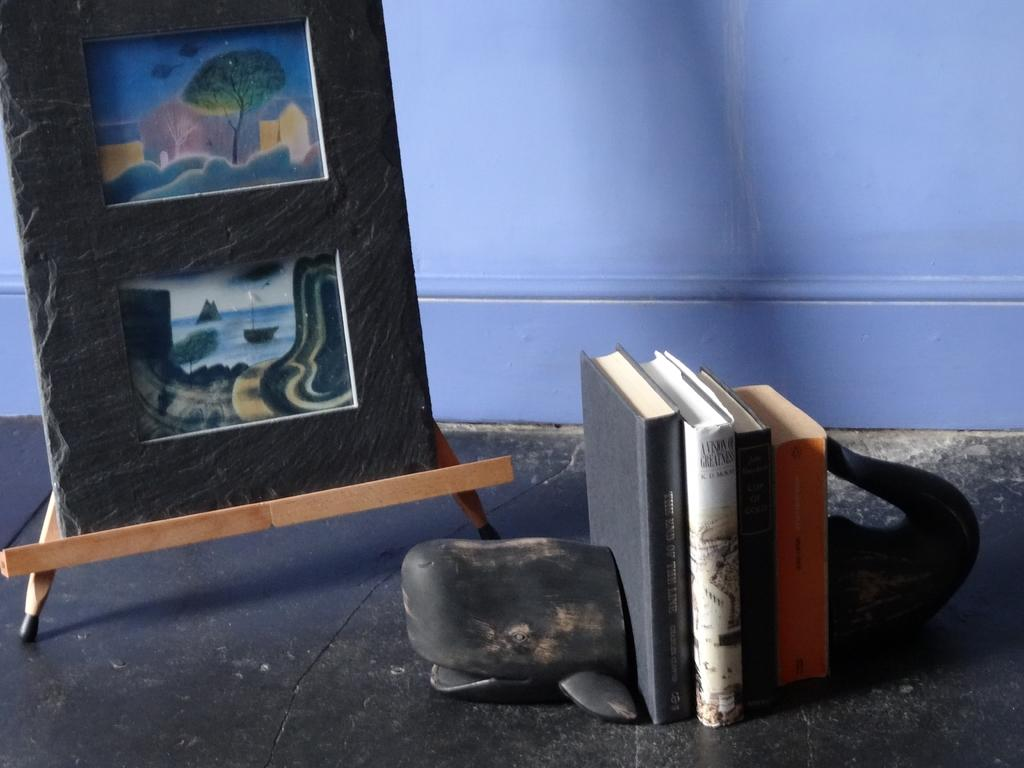book: (636, 338, 744, 724), (583, 342, 682, 728), (731, 379, 833, 680), (688, 368, 782, 690)
